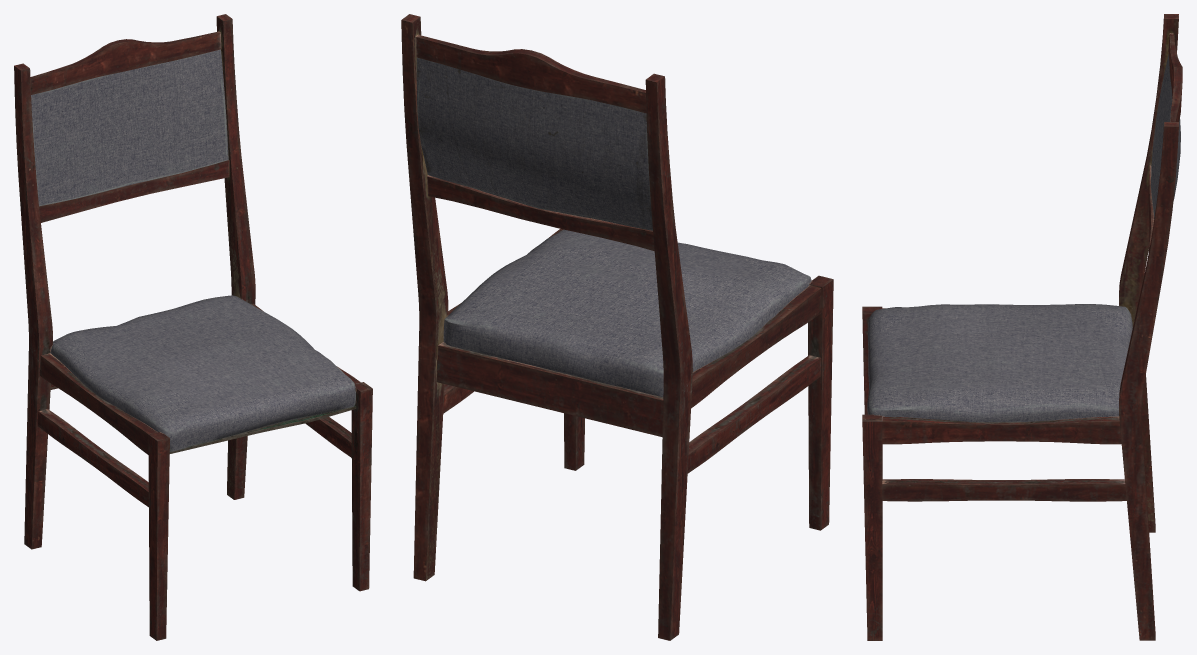
Rendered from LIVINGROOM-CHAIR-58999.glb.
3 renders of one model, left to right at view 1: azimuth 30°, elevation 25°; view 2: azimuth 150°, elevation 25°; view 3: azimuth 270°, elevation 25°, orthographic. The views are drawn at different scales.
Parts seen in each view (by area): view 1: Stool_LP; view 2: Stool_LP; view 3: Stool_LP.
Part boxes in pixels (x1,y1,x2,y2): Stool_LP: [14, 14, 372, 640]; Stool_LP: [401, 14, 833, 640]; Stool_LP: [862, 14, 1182, 640].
Size of the model in its own units: 1.44 by 3 by 1.69.
Materials: 1 (1 with a texture image).
